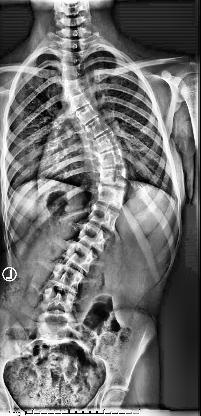Vertebrae: (46, 259, 84, 295), (62, 240, 98, 272), (85, 201, 119, 231), (39, 287, 77, 313), (80, 221, 112, 250), (36, 310, 74, 334), (97, 186, 127, 210), (97, 169, 135, 187), (100, 147, 130, 169), (75, 104, 105, 125), (93, 132, 123, 152), (58, 50, 92, 66), (85, 118, 115, 136), (68, 92, 94, 112), (63, 79, 89, 99), (57, 66, 90, 80)
